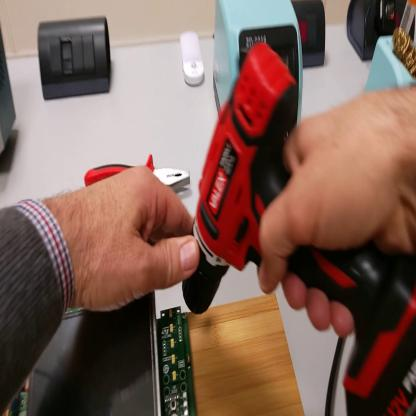electric screwdriver: (182, 43, 416, 414)
hand: (258, 87, 407, 337), (58, 164, 201, 316)
low voltage board: (2, 292, 198, 413)
oscilloscope: (2, 11, 18, 161)
pliers: (86, 154, 191, 199)
socket: (347, 3, 416, 62), (293, 2, 327, 68)
welder base: (364, 3, 416, 95)
welder station: (215, 1, 305, 130)
working area: (186, 292, 305, 412)
